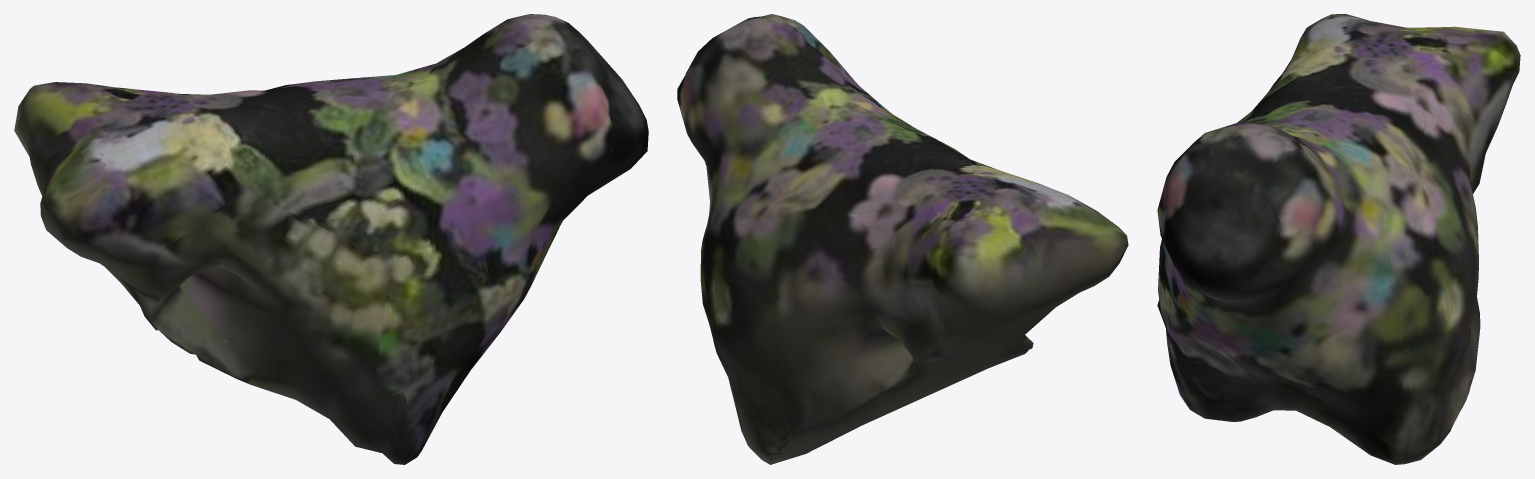
The model's file is hall.glb.
3 renders of one model, left to right at view 1: azimuth 30°, elevation 25°; view 2: azimuth 150°, elevation 25°; view 3: azimuth 270°, elevation 25°, orthographic. The views are drawn at different scales.
Bounding box in the file's own units: 0.5492 × 0.3907 × 0.3414.
Materials: 1 (1 with a texture image).
